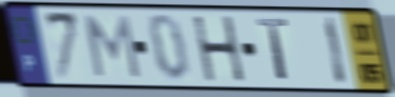0: (147, 12, 192, 85)
7: (43, 8, 82, 84)
H: (189, 13, 248, 84)
I: (322, 14, 351, 89)
M: (82, 13, 144, 82)
T: (254, 15, 292, 84)
